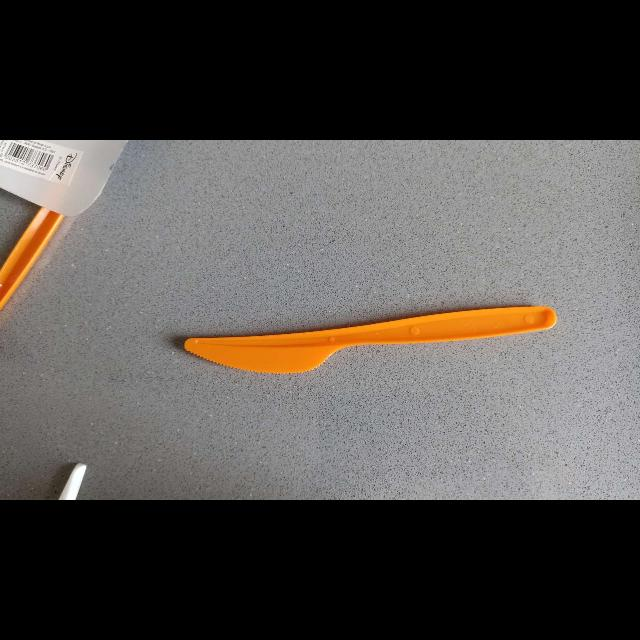plastic_cultery: (174, 302, 562, 378)
